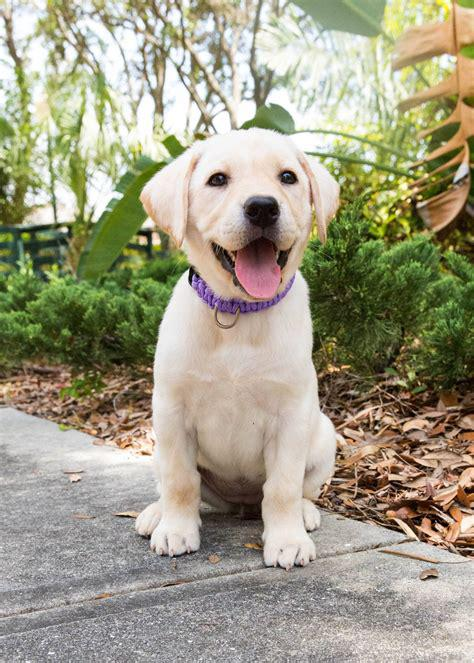dog: (136, 130, 337, 566)
